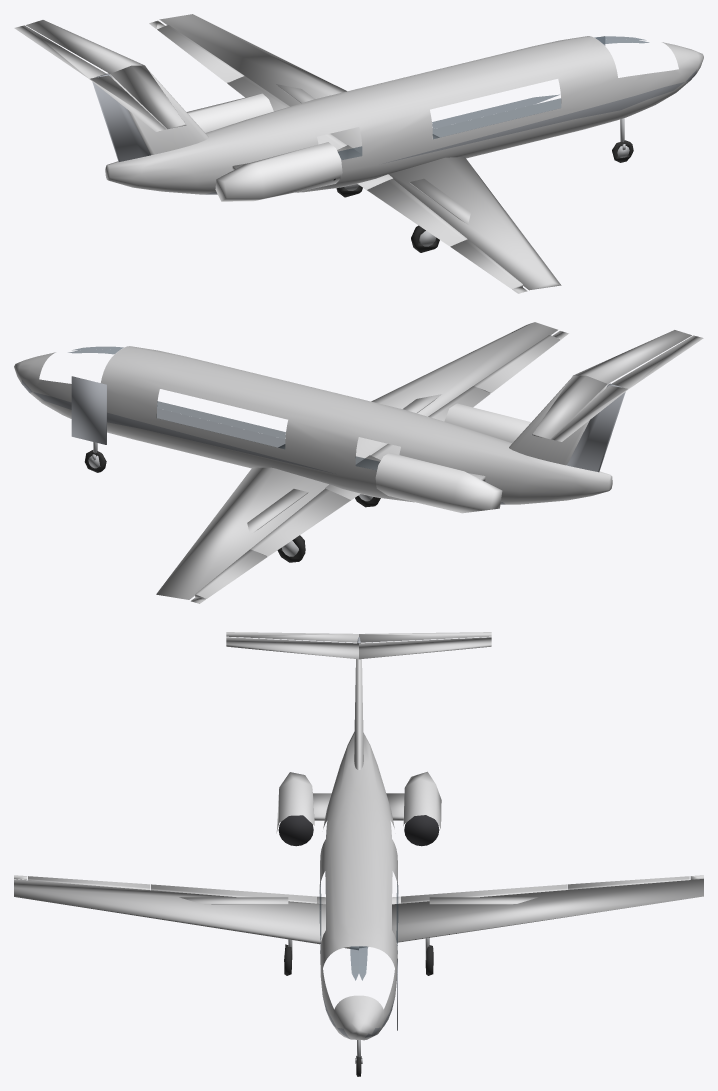
File: vesta_lod2.glb
The picture shows the model from 3 angles, top to bottom: view 1: azimuth 30°, elevation 25°; view 2: azimuth 150°, elevation 25°; view 3: azimuth 270°, elevation 25°; orthographic projection. The views are drawn at different scales.
Visible parts, largest first — view 1: fuselage, wing_R, wing_L, nacelle_2, stabilizer, glass, elevator, flap_R_1, fin, rudder, nacelle_1, aileron_L (+3 smaller); view 2: fuselage, wing_L, wing_R, nacelle_1, stabilizer, glass, door_main, elevator, flap_L_1, fin, rudder, nacelle_2 (+4 smaller); view 3: fuselage, wing_R, wing_L, stabilizer, elevator, nacelle_1, nacelle_2, flap_R_1, flap_L_1, fin, fan_1_face, fan_2_face (+4 smaller).
Part boxes in pixels (x1,y1,x2,y2): fuselage: [105, 36, 703, 194]; wing_R: [357, 157, 561, 293]; wing_L: [149, 14, 439, 159]; nacelle_2: [215, 142, 342, 201]; stabilizer: [26, 20, 186, 129]; glass: [338, 36, 648, 159]; elevator: [14, 25, 166, 131]; flap_R_1: [367, 178, 467, 246]; fin: [108, 68, 208, 154]; rudder: [92, 73, 150, 161]; nacelle_1: [187, 93, 273, 132]; aileron_L: [157, 25, 244, 82]; fuselage: [14, 346, 612, 504]; wing_L: [156, 467, 360, 603]; wing_R: [278, 322, 568, 470]; nacelle_1: [375, 453, 502, 513]; stabilizer: [531, 330, 691, 439]; glass: [68, 346, 379, 470]; door_main: [71, 376, 106, 444]; elevator: [551, 335, 703, 441]; flap_L_1: [250, 488, 350, 556]; fin: [509, 380, 609, 465]; rudder: [567, 383, 625, 472]; nacelle_2: [444, 403, 531, 442]; fuselage: [319, 731, 398, 1040]; wing_R: [14, 875, 358, 950]; wing_L: [359, 875, 703, 948]; stabilizer: [226, 637, 491, 659]; elevator: [226, 632, 491, 642]; nacelle_1: [403, 771, 441, 828]; nacelle_2: [276, 772, 314, 833]; flap_R_1: [151, 884, 316, 903]; flap_L_1: [401, 884, 566, 903]; fin: [354, 643, 363, 769]; fan_1_face: [404, 815, 439, 846]; fan_2_face: [278, 815, 313, 846].
Size of the model in its own units: 15.05 by 5.15 by 15.6.
